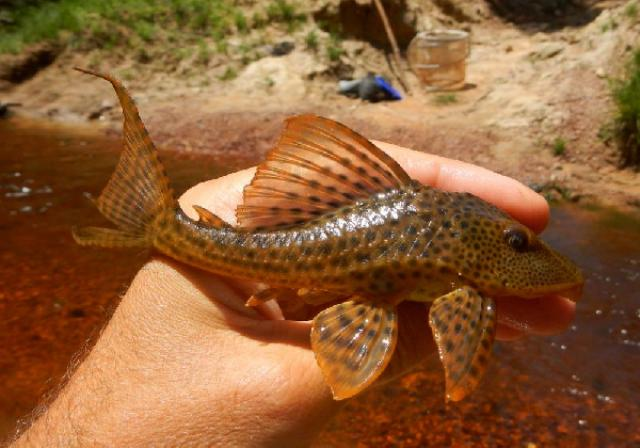Sirip Dada: (416, 274, 510, 414)
Sirip Ekor: (46, 49, 184, 273)
Sirip Perut: (300, 293, 406, 418)
Sirip Punggung: (191, 104, 425, 244)
